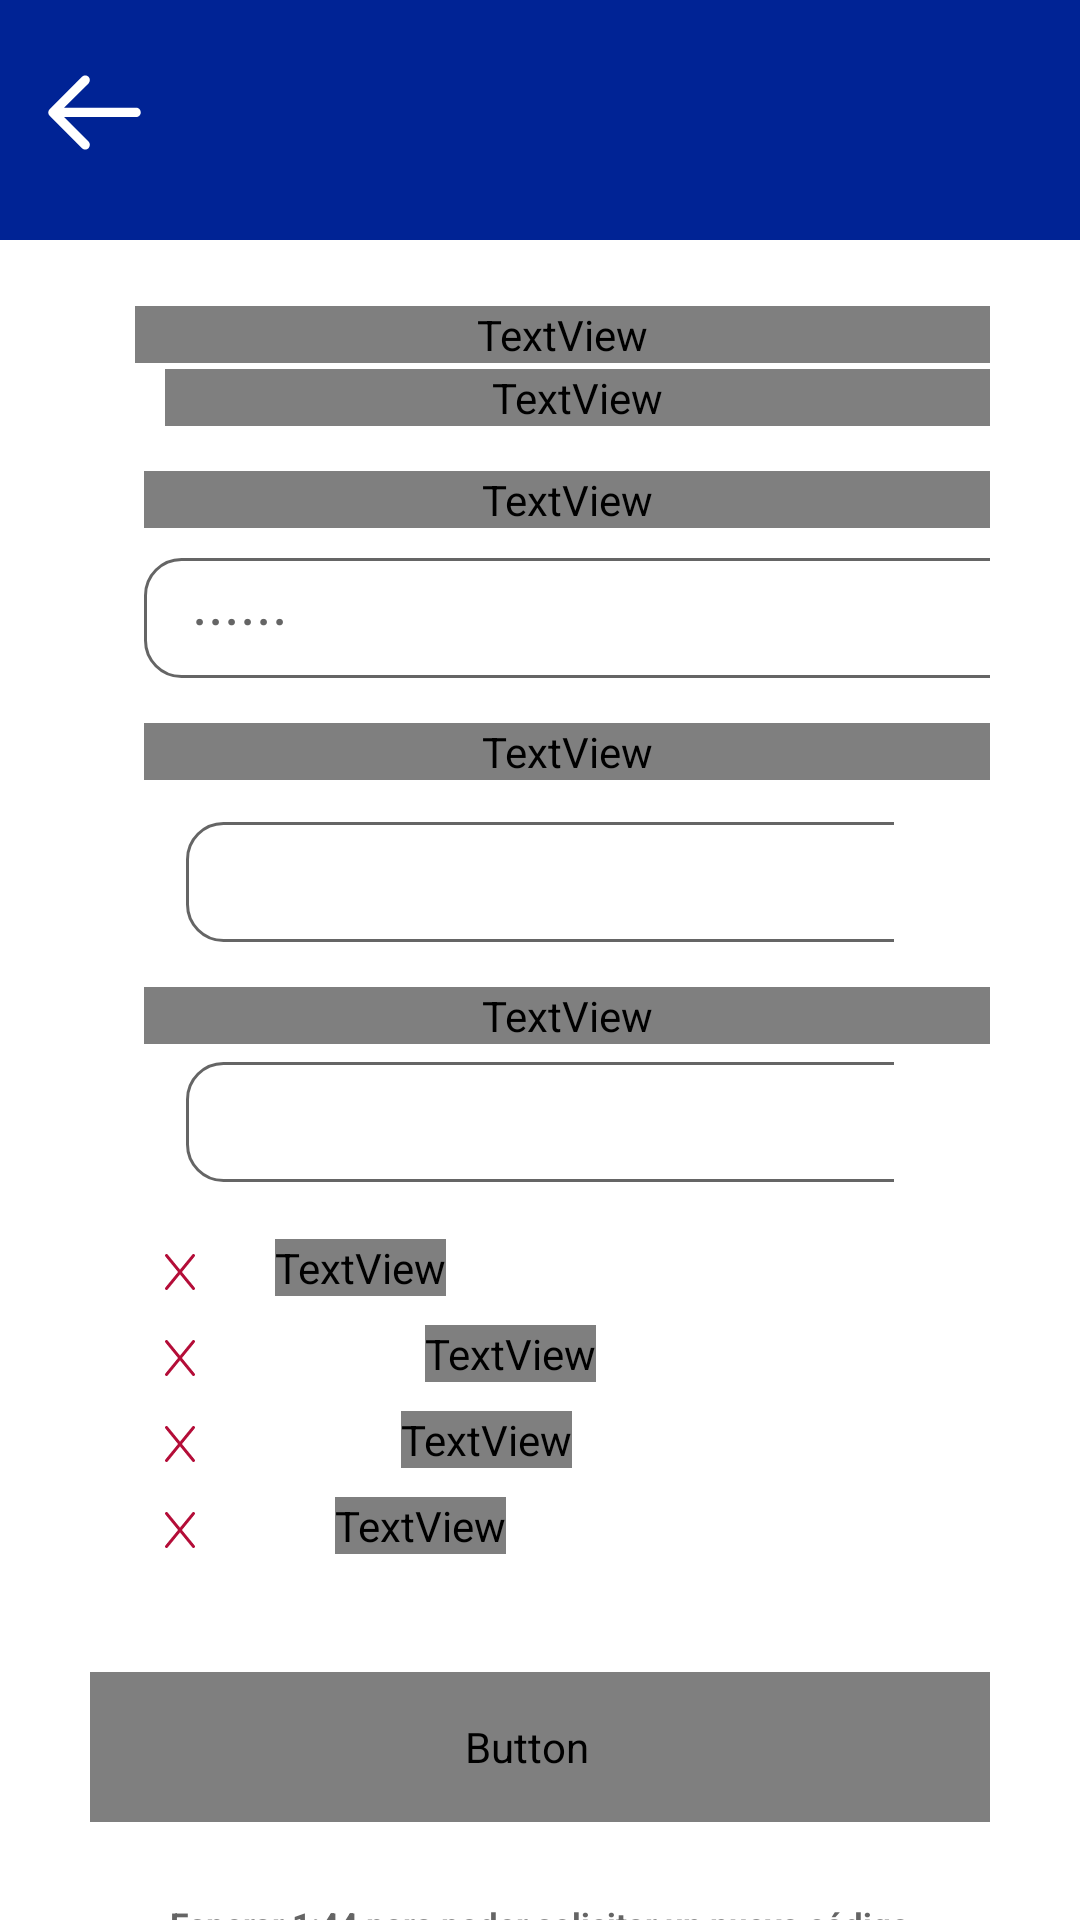

Icons on this 1080 x 1920 Android screen, each with its box as [x1,y1,x2,y2]:
left: [48,75,141,150]
